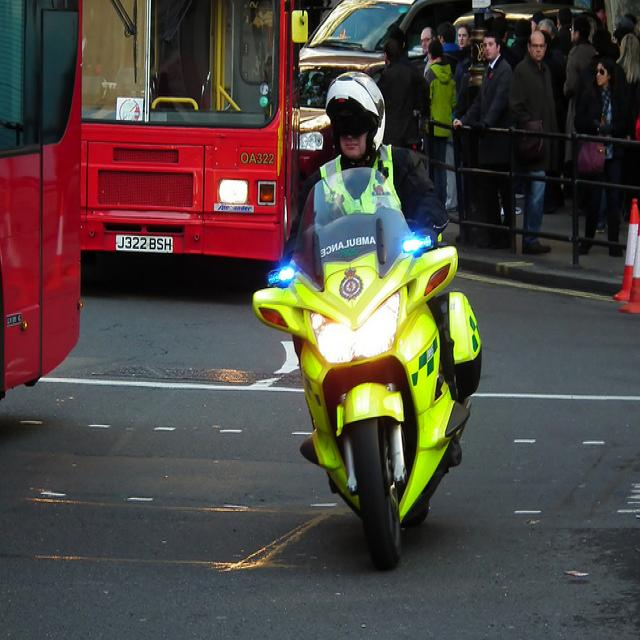motor: (252, 166, 485, 567)
